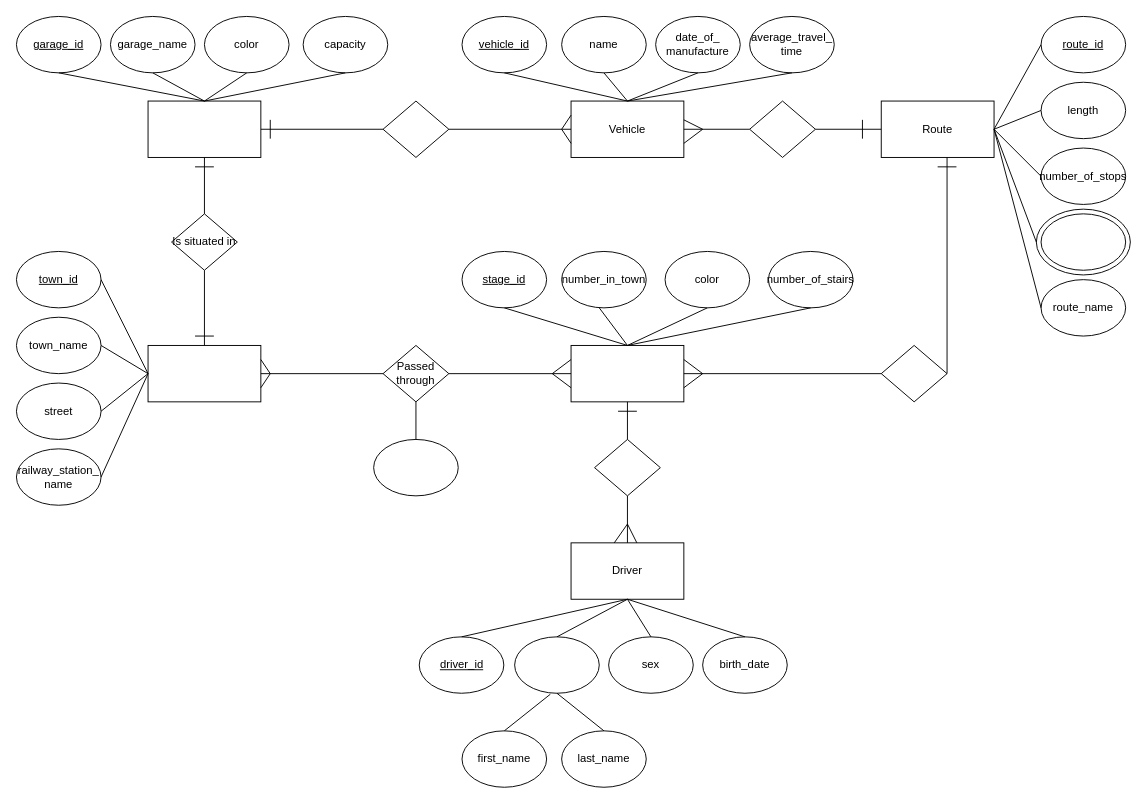
Some shapes in this 1147 by 804 pixel diagram are drawn without their labels. Each missing label, with the centre of its shape:
( names ): the point at 556,664
Garage: the point at 204,128
Has: the point at 913,373
Is allocated: the point at 627,467
Is garaged: the point at 415,128
Is serviced by: the point at 782,128
name_of_stops: the point at 1083,241
Stage: the point at 627,373
time: the point at 415,467
Town: the point at 204,373
